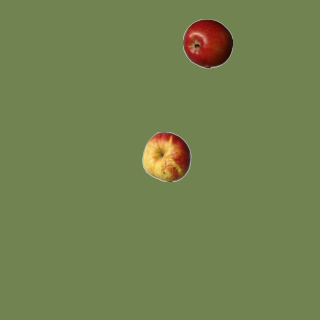Apple Braeburn: (182, 18, 232, 68)
Apple Red Yellow 1: (141, 131, 191, 181)
